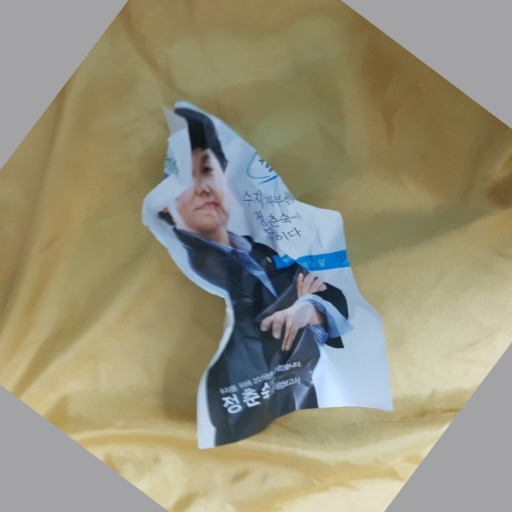Paper_3: (131, 102, 412, 438)
